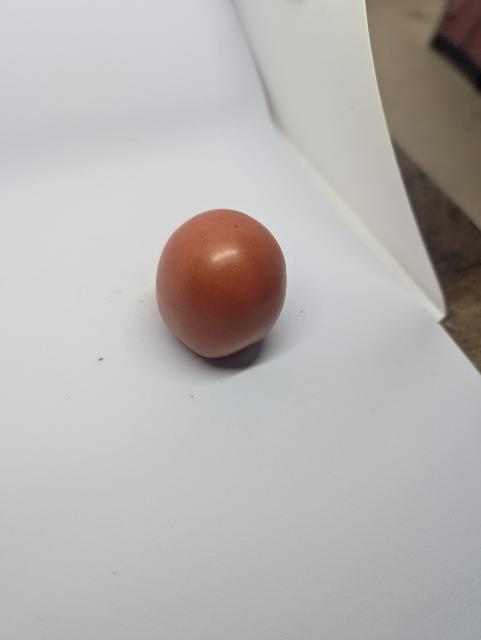red: (152, 204, 293, 363)
